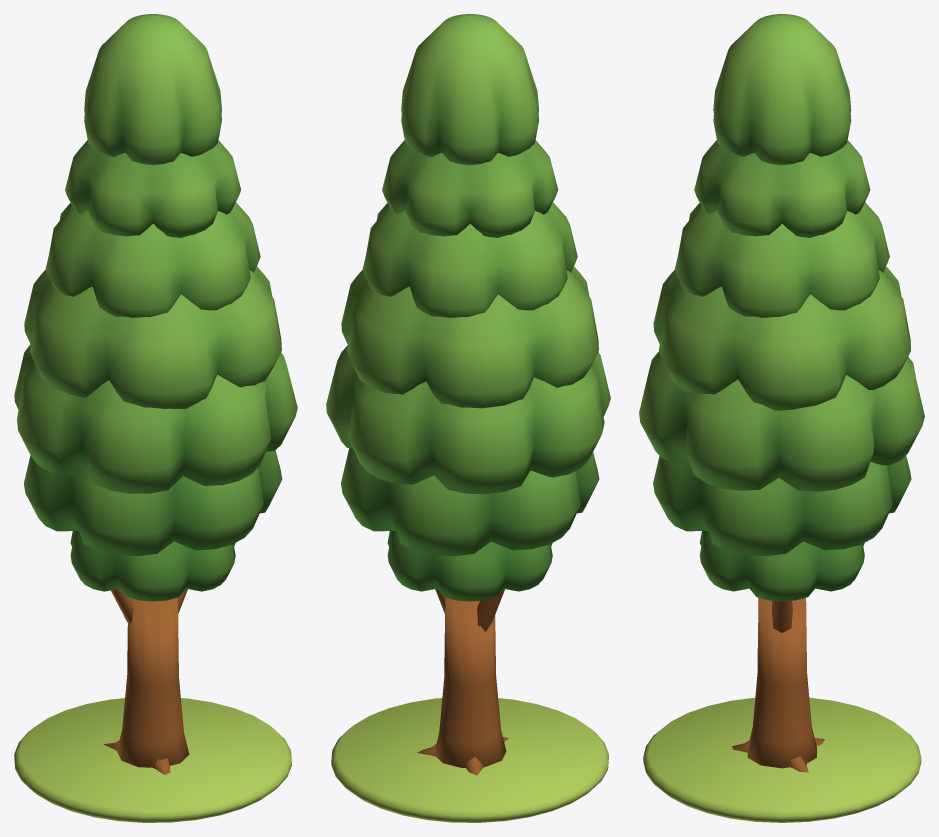
File: cypress-short.glb
The picture shows the model from 3 angles, left to right: view 1: azimuth 30°, elevation 25°; view 2: azimuth 150°, elevation 25°; view 3: azimuth 270°, elevation 25°; orthographic projection.
Visible parts, largest first — view 1: body, base_disc; view 2: body, base_disc; view 3: body, base_disc.
Part boxes in pixels (left/top/right/bottom): body: left=14, top=14, right=297, bottom=774; base_disc: left=14, top=698, right=291, bottom=822; body: left=326, top=14, right=610, bottom=775; base_disc: left=331, top=698, right=608, bottom=822; body: left=639, top=14, right=924, bottom=772; base_disc: left=643, top=697, right=921, bottom=822.
Size of the model in its own units: 0.8572 by 2.5 by 0.8637.
